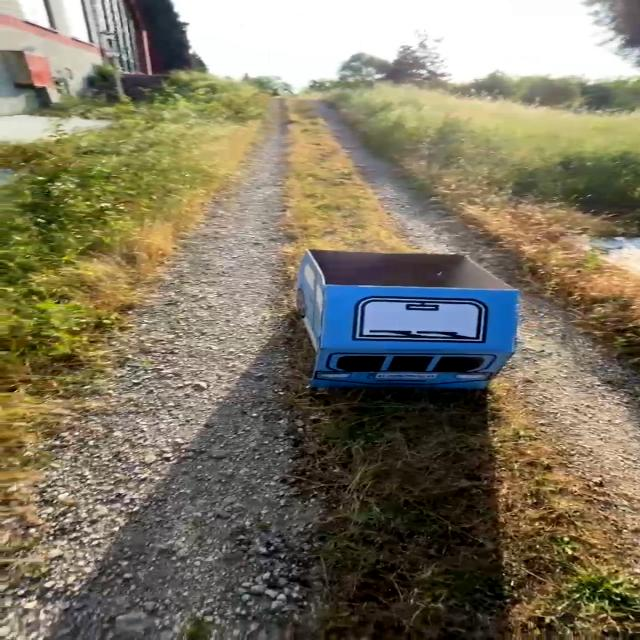blue_car: (242, 231, 593, 439)
